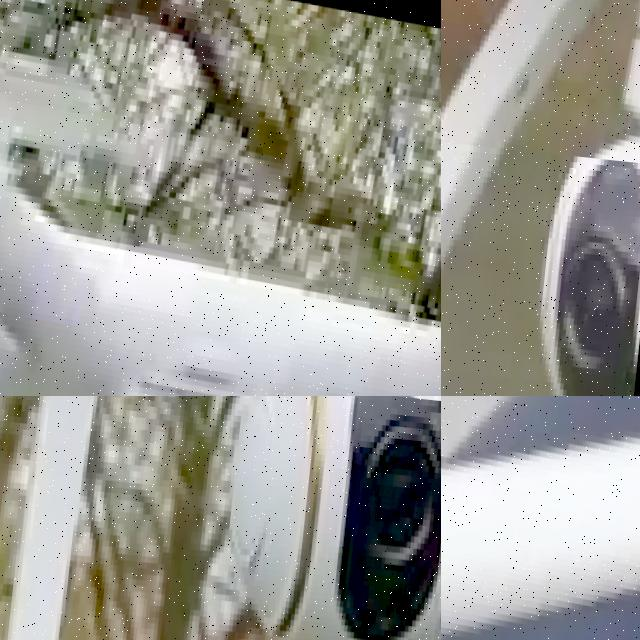drone: (0, 0, 441, 396), (441, 396, 640, 640), (441, 0, 640, 164)
